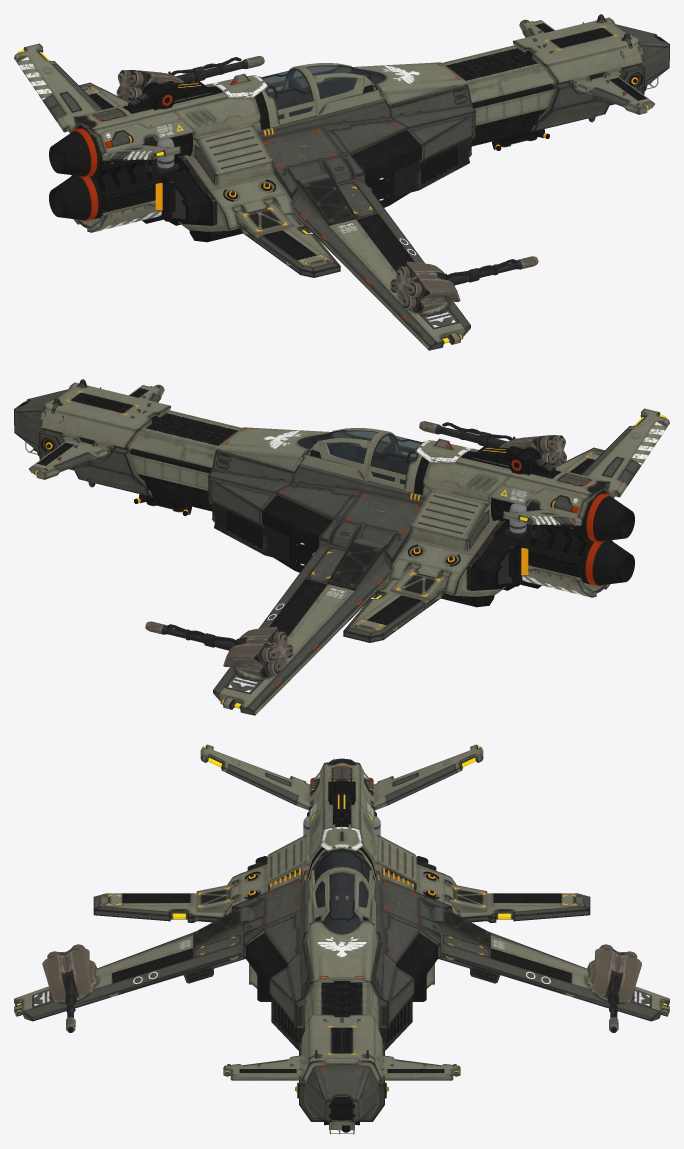
Rendered from dvergr-detail.glb.
The picture shows the model from 3 angles, top to bottom: view 1: azimuth 30°, elevation 25°; view 2: azimuth 150°, elevation 25°; view 3: azimuth 270°, elevation 25°; orthographic projection.
Parts seen in each view (by area): view 1: dvergr; view 2: dvergr; view 3: dvergr.
Boxes of the visible parts, x1=… form: dvergr: x1=14, y1=14, x2=669, y2=350; dvergr: x1=14, y1=379, x2=669, y2=715; dvergr: x1=14, y1=744, x2=669, y2=1134.
Size of the model in its own units: 28 by 7.65 by 26.33.
Materials: 3 (2 with a texture image).
